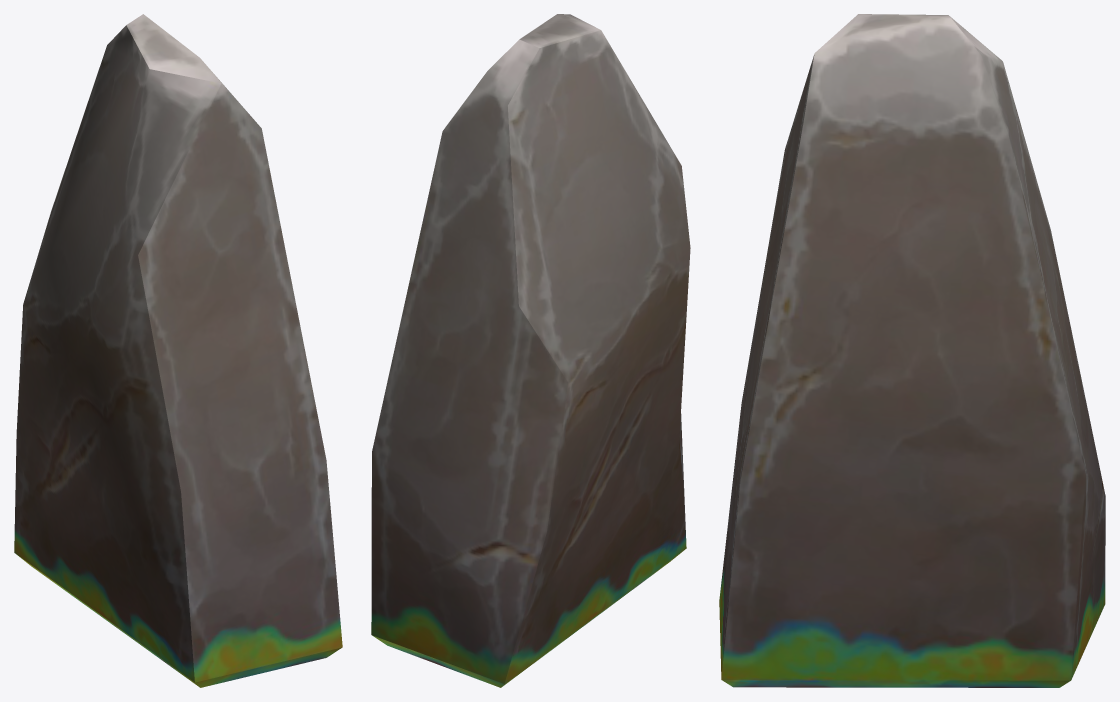
File: ENV2210012.fbx
3 views of the same model, side by side, from view 1: azimuth 30°, elevation 25°; view 2: azimuth 150°, elevation 25°; view 3: azimuth 270°, elevation 25° (orthographic). The views are drawn at different scales.
Parts seen in each view (by area): view 1: smENV2210012; view 2: smENV2210012; view 3: smENV2210012.
Boxes of the visible parts, x1,y1,x2,y2 form: smENV2210012: (14, 14, 342, 687); smENV2210012: (371, 14, 690, 687); smENV2210012: (719, 14, 1105, 687).
Size of the model in its own units: 23.56 by 67.1 by 37.48.
1 material, 1 textured.
